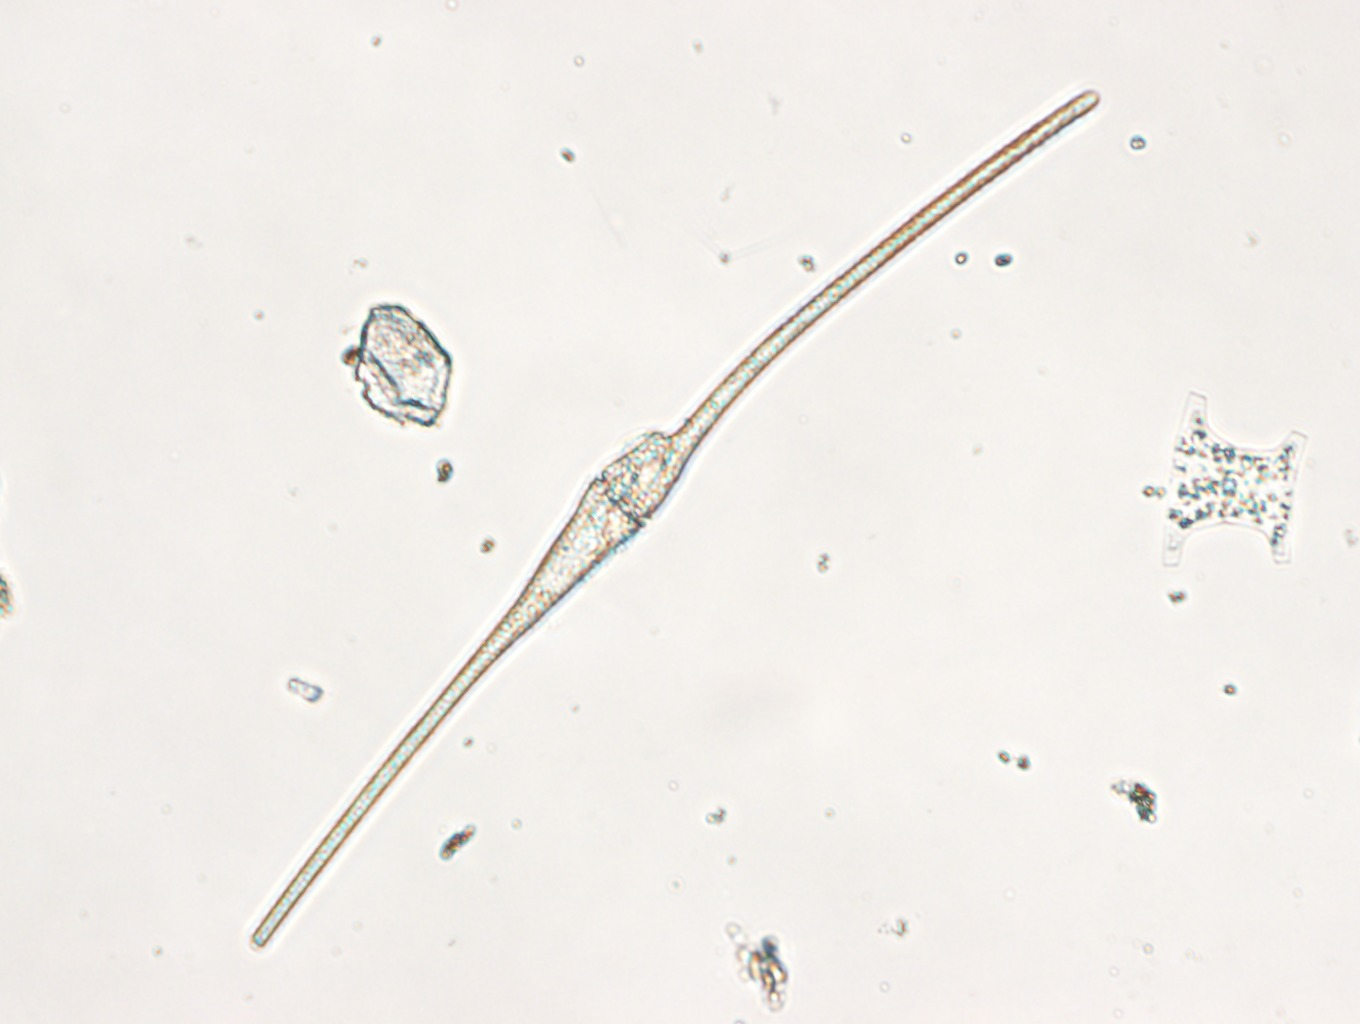ceratium fusus: (246, 82, 1103, 952)
eucampia: (1160, 388, 1308, 570)
